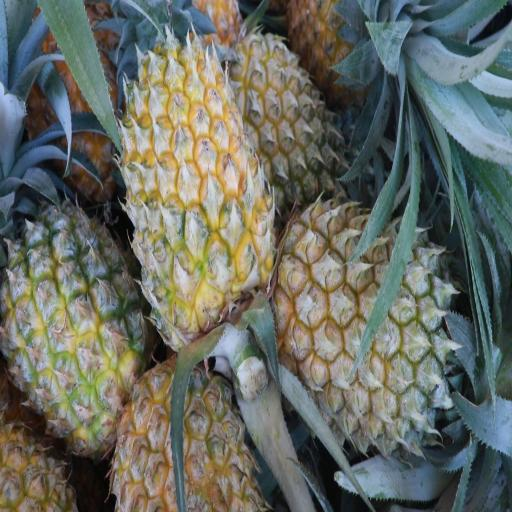------------------------------: (112, 353, 248, 512)
Pineapple - v8 v1: (122, 35, 271, 332), (4, 192, 141, 436)
